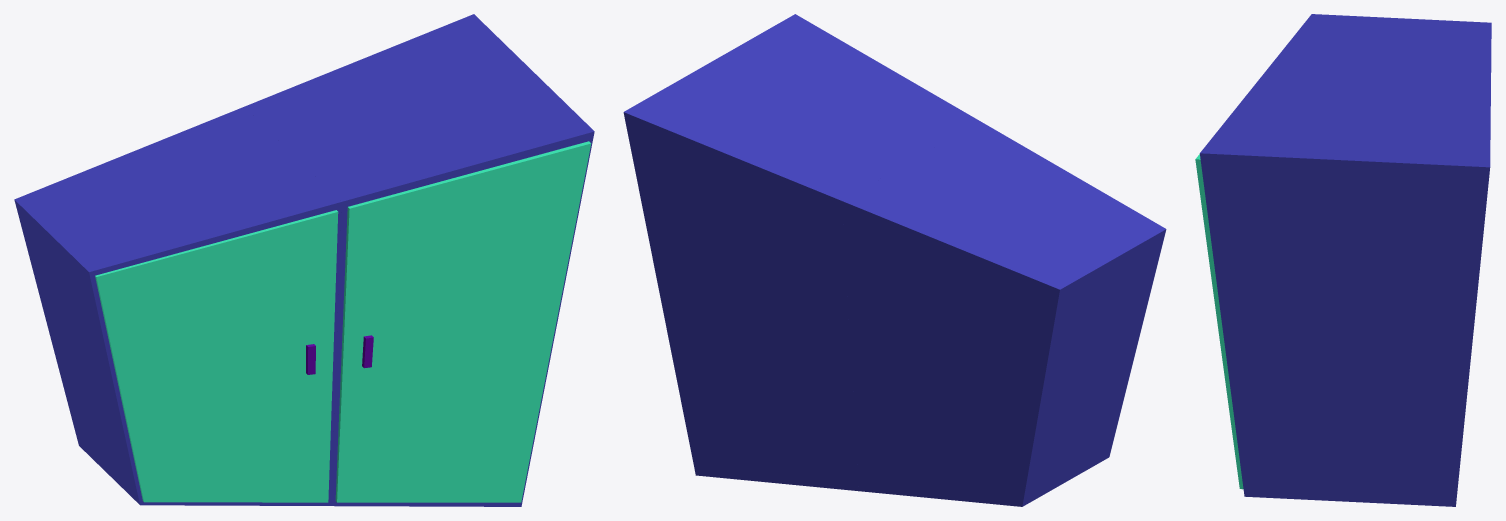
Rendered from House_Kitchen_Cupboard_Wall_One.FBX.
The picture shows the model from 3 angles, left to right: view 1: azimuth 30°, elevation 25°; view 2: azimuth 150°, elevation 25°; view 3: azimuth 270°, elevation 25°; orthographic projection. The views are drawn at different scales.
Visible parts, largest first — view 1: House_Kitchen_Cupboard_Wall_One_doorRight, House_Kitchen_Cupboard_Wall_One_doorLeft, House_Kitchen_Cupboard_Wall_One_ bodyLeft, House_Kitchen_Cupboard_Wall_One_bodyRight; view 2: House_Kitchen_Cupboard_Wall_One_ bodyLeft, House_Kitchen_Cupboard_Wall_One_bodyRight; view 3: House_Kitchen_Cupboard_Wall_One_bodyRight, House_Kitchen_Cupboard_Wall_One_ bodyLeft, House_Kitchen_Cupboard_Wall_One_doorRight.
Part boxes in pixels (x1,y1,x2,y2): House_Kitchen_Cupboard_Wall_One_doorRight: [335, 141, 591, 502]; House_Kitchen_Cupboard_Wall_One_doorLeft: [95, 210, 338, 502]; House_Kitchen_Cupboard_Wall_One_ bodyLeft: [14, 107, 341, 505]; House_Kitchen_Cupboard_Wall_One_bodyRight: [244, 14, 594, 506]; House_Kitchen_Cupboard_Wall_One_ bodyLeft: [841, 121, 1166, 506]; House_Kitchen_Cupboard_Wall_One_bodyRight: [623, 14, 980, 491]; House_Kitchen_Cupboard_Wall_One_bodyRight: [1199, 83, 1490, 506]; House_Kitchen_Cupboard_Wall_One_ bodyLeft: [1256, 14, 1491, 94]; House_Kitchen_Cupboard_Wall_One_doorRight: [1195, 154, 1243, 489].
Size of the model in its own units: 234 by 178 by 131.
